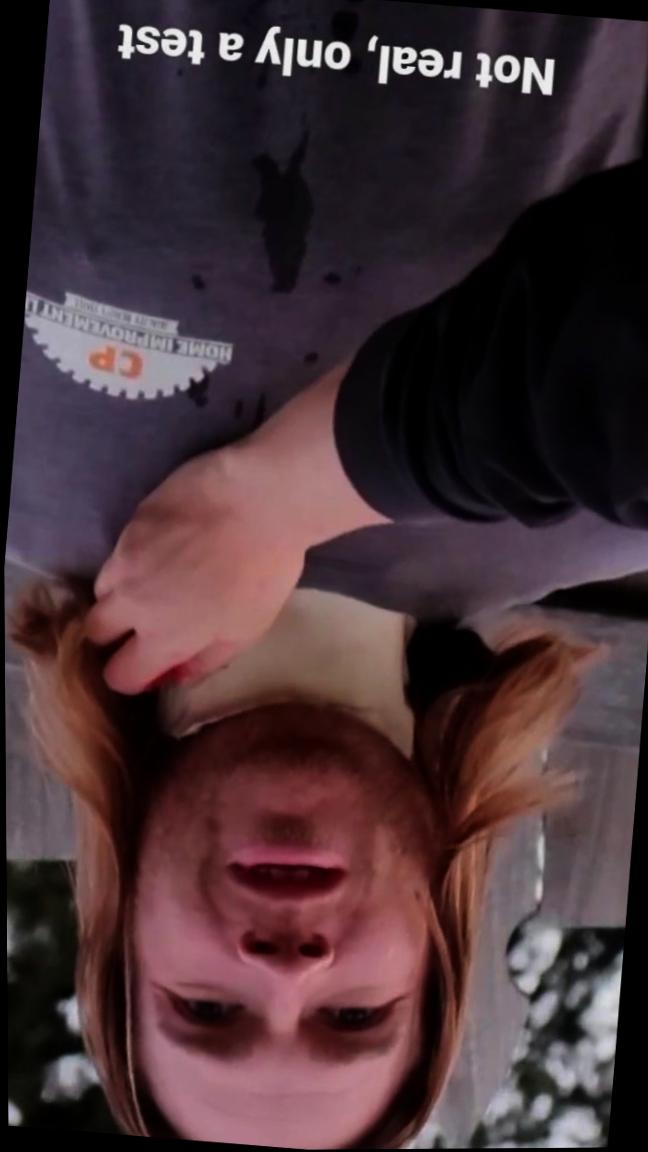Fire: (137, 661, 205, 717)
